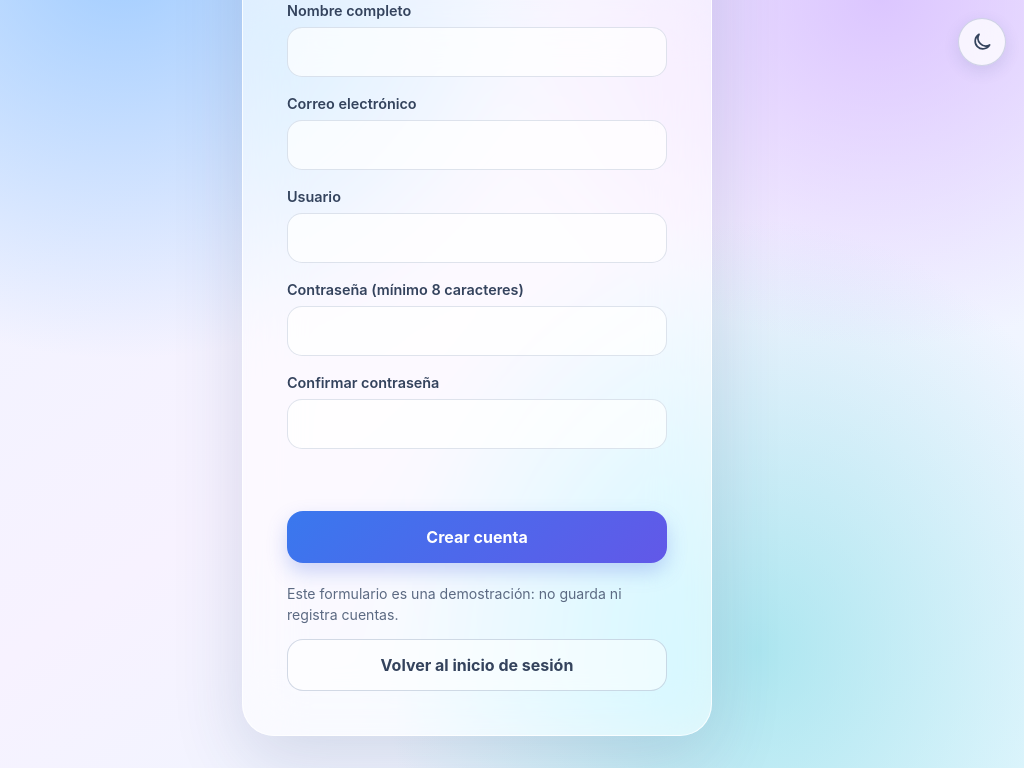
Test: SignupPage › returns to the login page
This screenshot has width=1024, height=768.
(page scrolled)
Click the button "Volver al inicio de sesión".
click(477, 665)  # box [287,639,667,691]
(page scrolled)
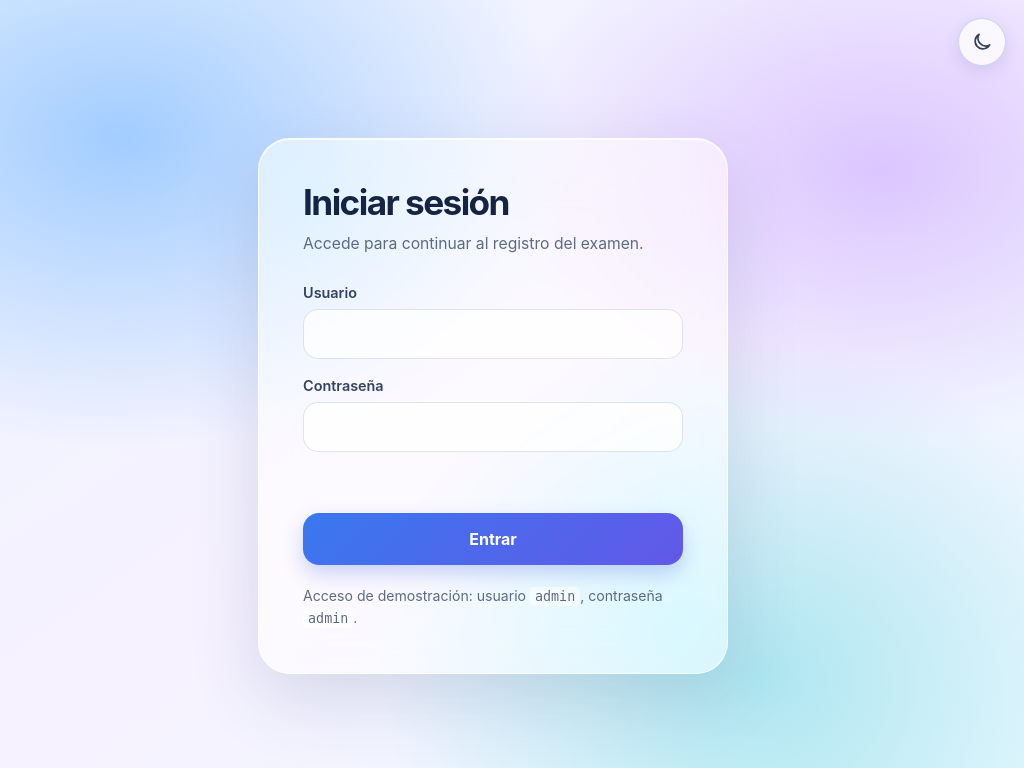
expect the heading "Iniciar sesión" is shown: met, box [303,181,509,223]
